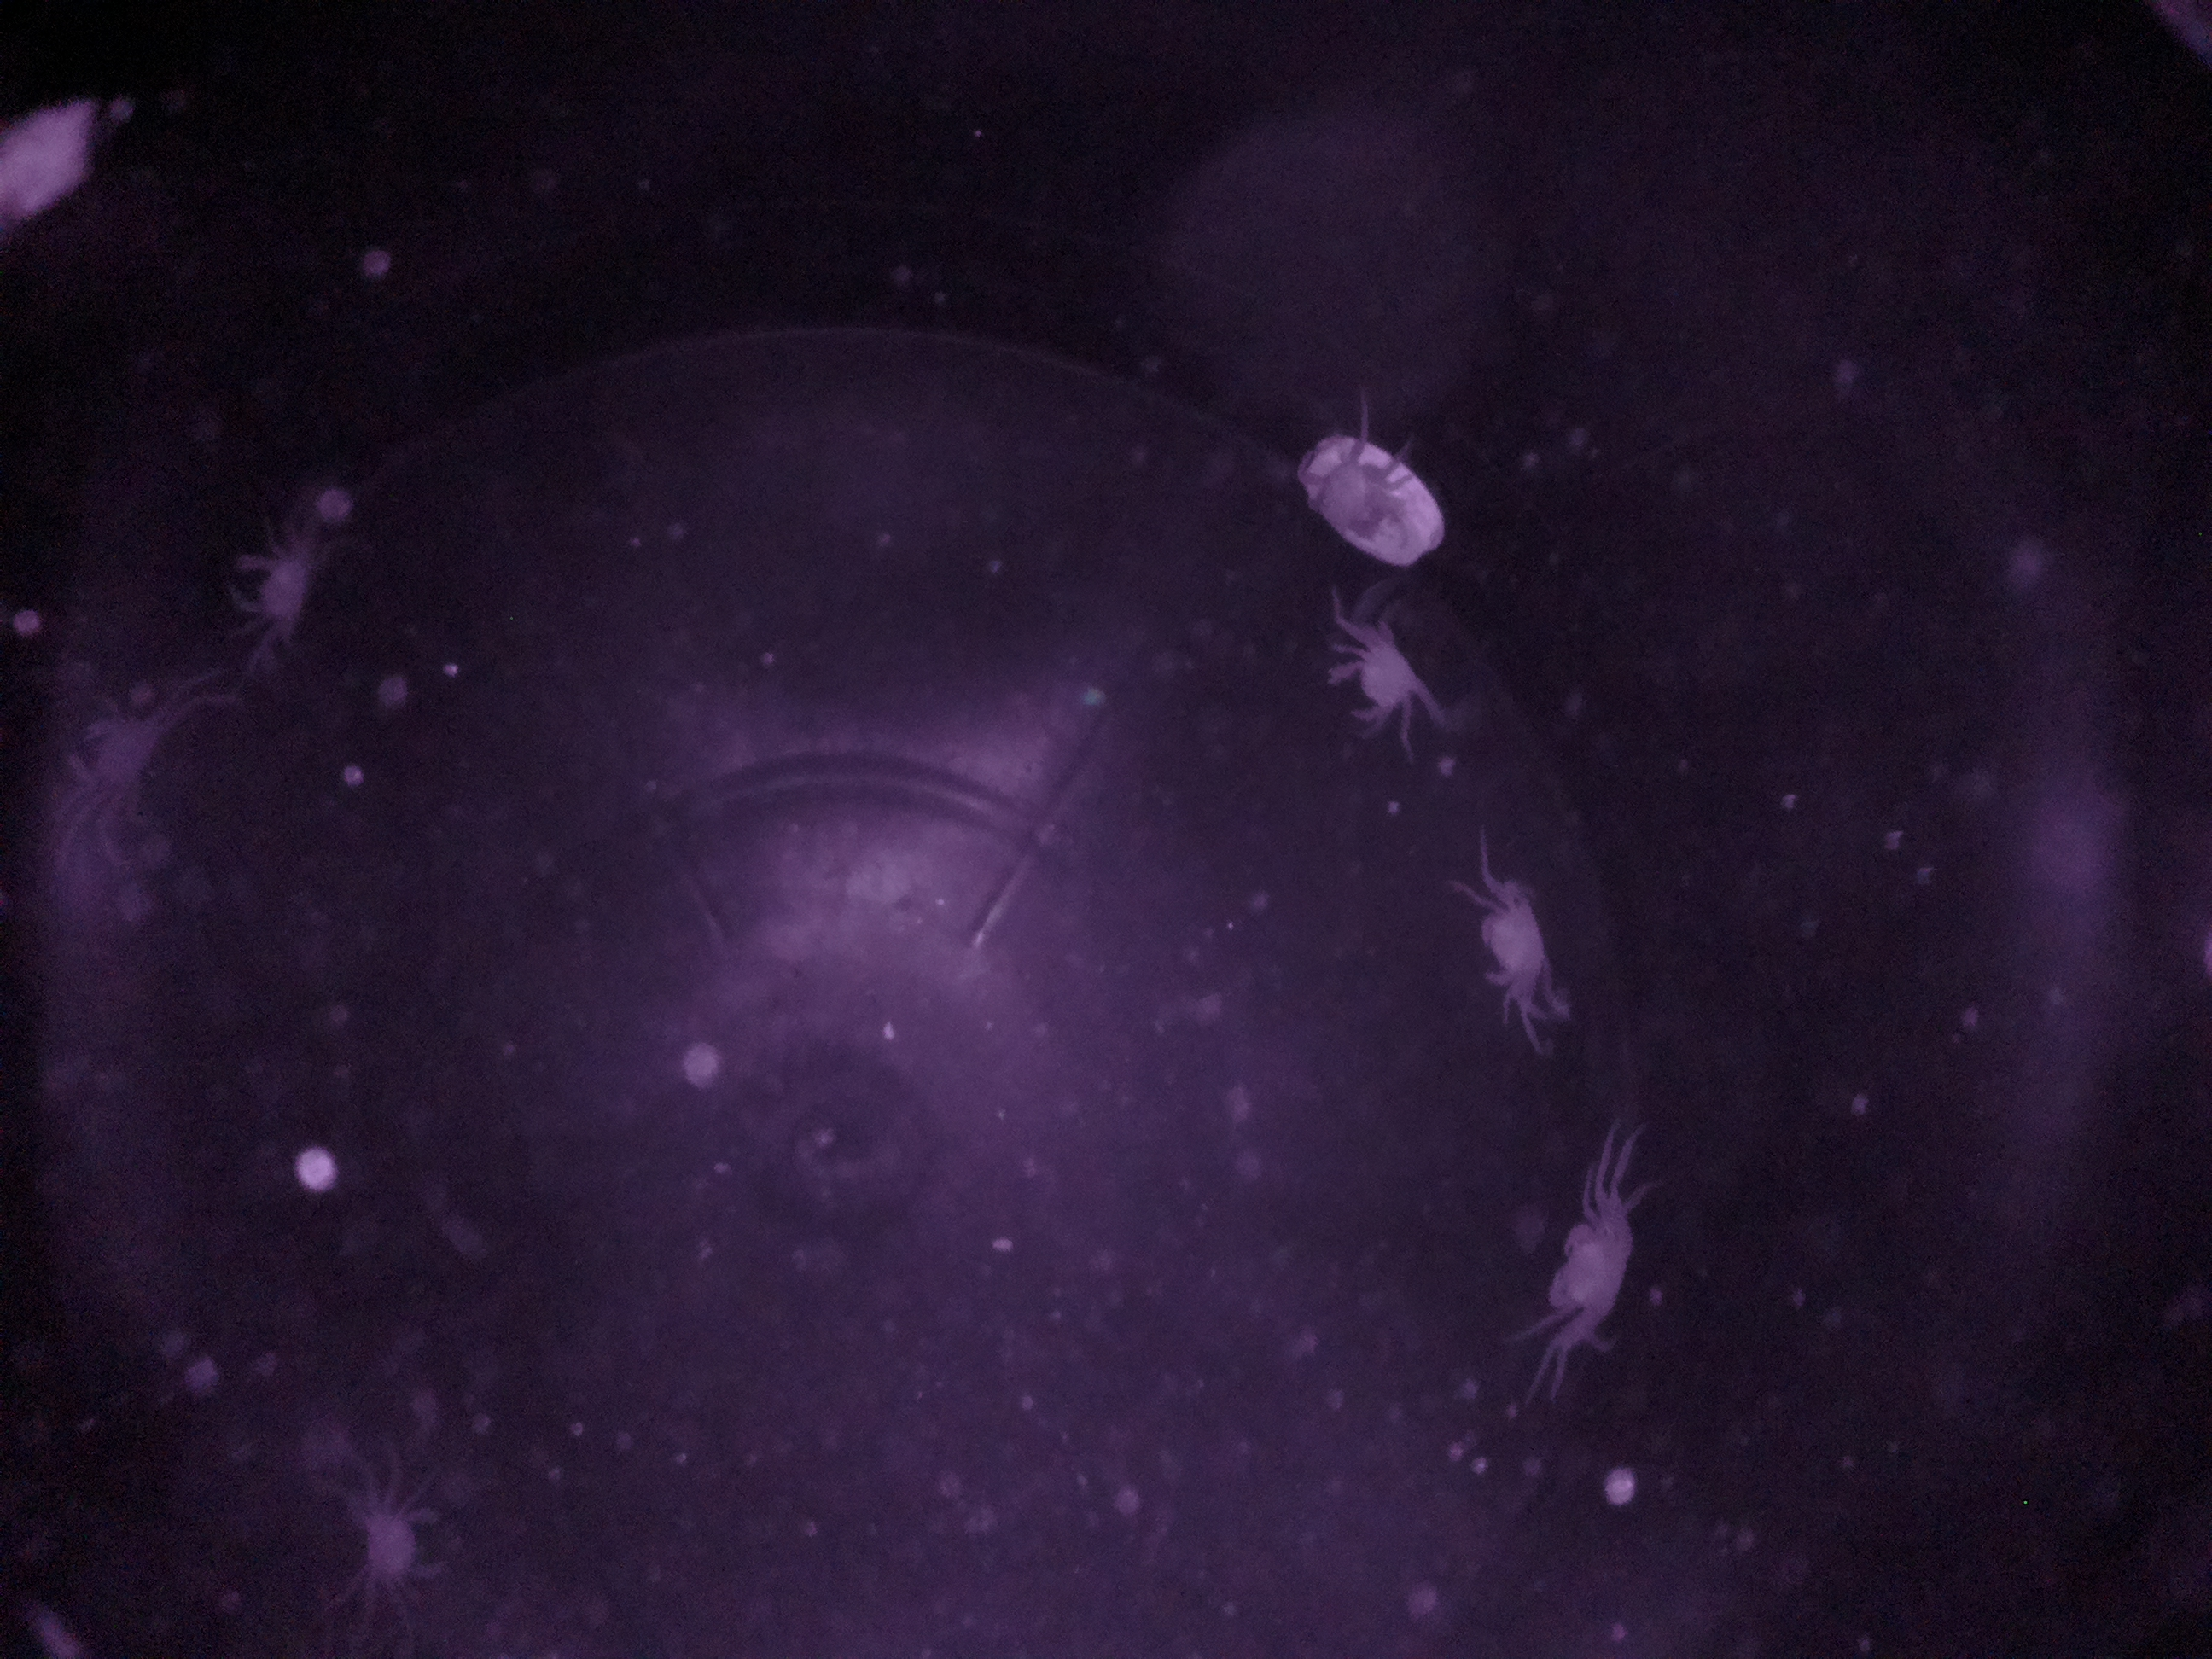Crab: (1517, 1185, 1663, 1351), (1460, 859, 1576, 1021), (1325, 608, 1444, 746)
